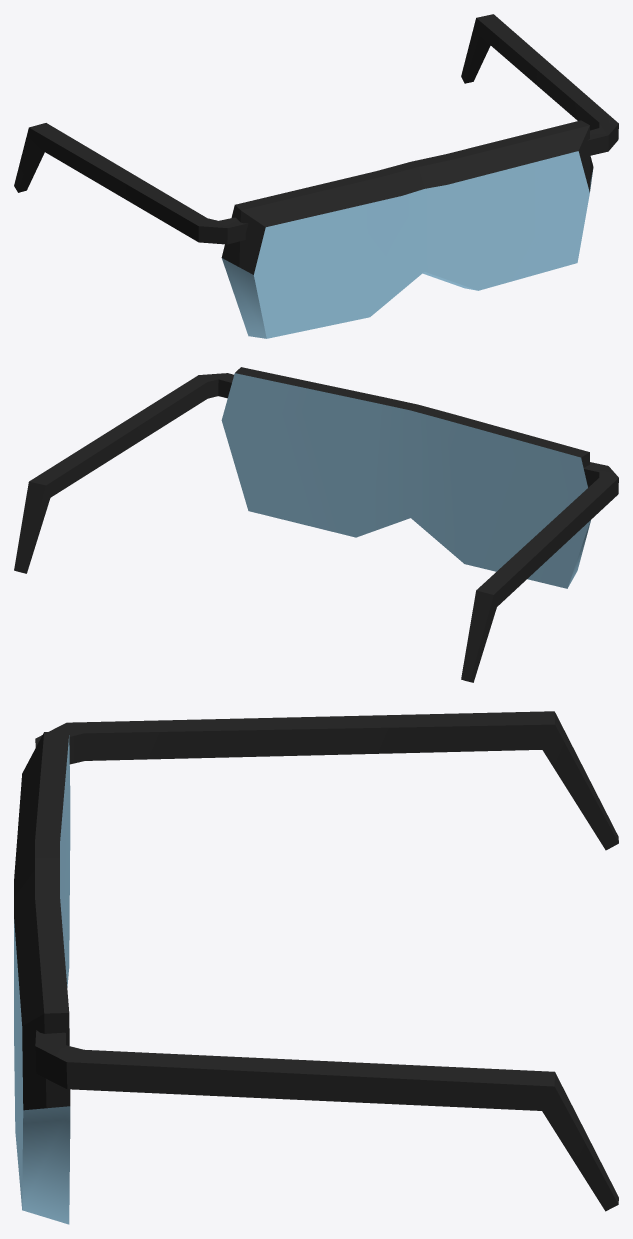
Rendered from Glasses_02.fbx.
The picture shows the model from 3 angles, top to bottom: view 1: azimuth 30°, elevation 25°; view 2: azimuth 150°, elevation 25°; view 3: azimuth 270°, elevation 25°; orthographic projection. The views are drawn at different scales.
Parts seen in each view (by area): view 1: Glasses_02; view 2: Glasses_02; view 3: Glasses_02.
Part boxes in pixels (<box>): Glasses_02: <box>14,14,618,338</box>; Glasses_02: <box>14,367,618,682</box>; Glasses_02: <box>14,711,618,1224</box>.
Bounding box in the file's own units: 75.49 × 21.79 × 51.43.
